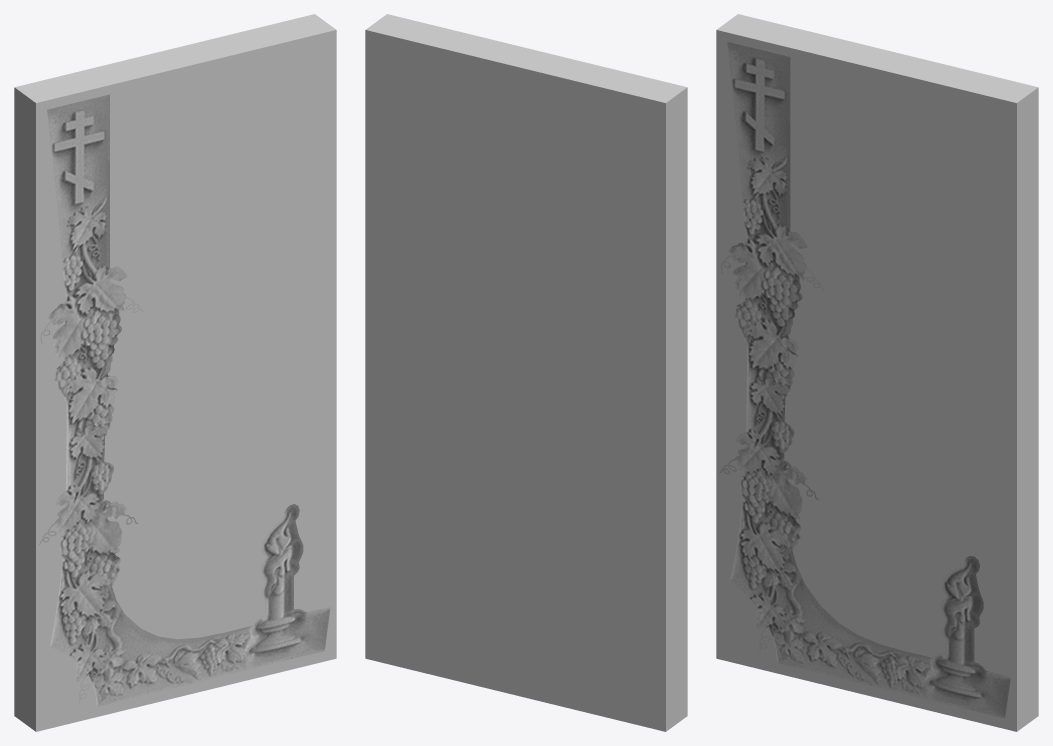
File: cn90c2d32bd5_tkf.glb
3 views of the same model, side by side, from view 1: azimuth 30°, elevation 25°; view 2: azimuth 150°, elevation 25°; view 3: azimuth 330°, elevation 25° (orthographic).
Parts seen in each view (by area): view 1: Pam-d01-139, Pam-d01-139_2_notexture; view 2: Pam-d01-139; view 3: Pam-d01-139, Pam-d01-139_2_notexture.
Part boxes in pixels (<box>): Pam-d01-139: <box>14,14,336,731</box>; Pam-d01-139_2_notexture: <box>39,94,330,706</box>; Pam-d01-139: <box>365,14,687,731</box>; Pam-d01-139: <box>716,14,1038,731</box>; Pam-d01-139_2_notexture: <box>719,42,1010,718</box>.
Size of the model in its own units: 0.4 by 0.8 by 0.05.
Materials: 1 (1 with a texture image).
